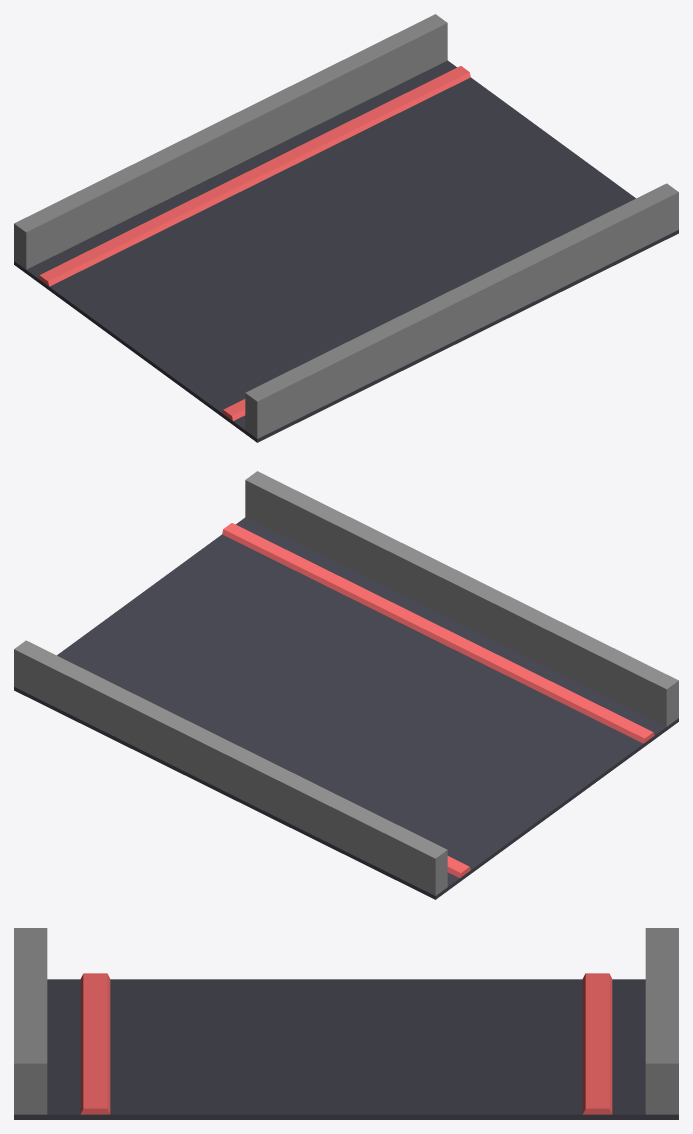
The model's file is kartkids_base_trk_190_rmp_up_1x1_z0_to_z2p5.glb.
The picture shows the model from 3 angles, top to bottom: view 1: azimuth 30°, elevation 25°; view 2: azimuth 150°, elevation 25°; view 3: azimuth 270°, elevation 25°; orthographic projection. The views are drawn at different scales.
Parts seen in each view (by area): view 1: kartkids_base_trk_010_rd_straight_1x1.066, kartkids_base_trk_020_trn_90_l_1x1.061; view 2: kartkids_base_trk_010_rd_straight_1x1.066, kartkids_base_trk_020_trn_90_l_1x1.061; view 3: kartkids_base_trk_010_rd_straight_1x1.066, kartkids_base_trk_020_trn_90_l_1x1.061.
Boxes of the visible parts, bbox=[...] form: kartkids_base_trk_010_rd_straight_1x1.066: bbox=[14, 60, 678, 442]; kartkids_base_trk_020_trn_90_l_1x1.061: bbox=[14, 14, 678, 438]; kartkids_base_trk_010_rd_straight_1x1.066: bbox=[14, 517, 678, 899]; kartkids_base_trk_020_trn_90_l_1x1.061: bbox=[14, 471, 678, 895]; kartkids_base_trk_010_rd_straight_1x1.066: bbox=[14, 973, 678, 1119]; kartkids_base_trk_020_trn_90_l_1x1.061: bbox=[14, 928, 678, 1114].
Size of the model in its own units: 10 by 3.35 by 10.
